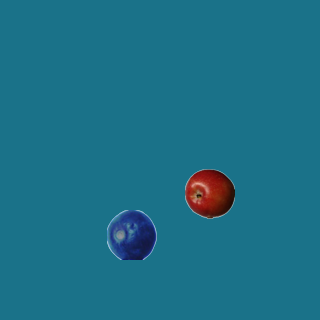Apple Braeburn: (184, 168, 234, 218)
Huckleberry: (106, 209, 156, 259)
